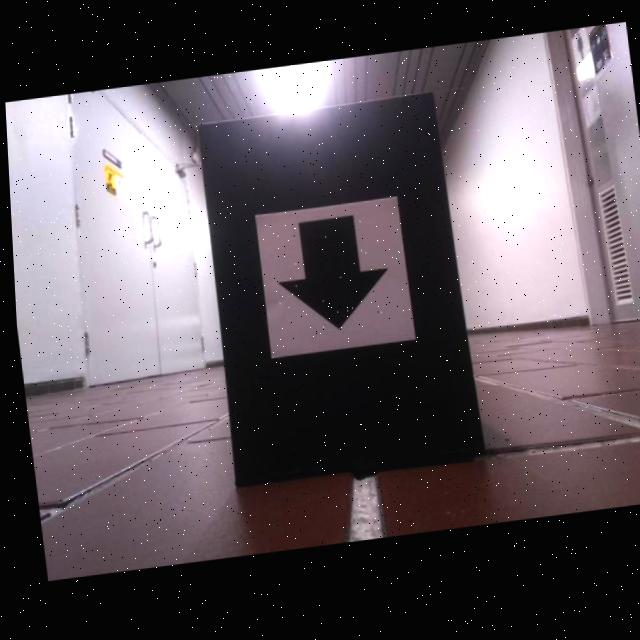DOWN: (272, 219, 386, 335)
